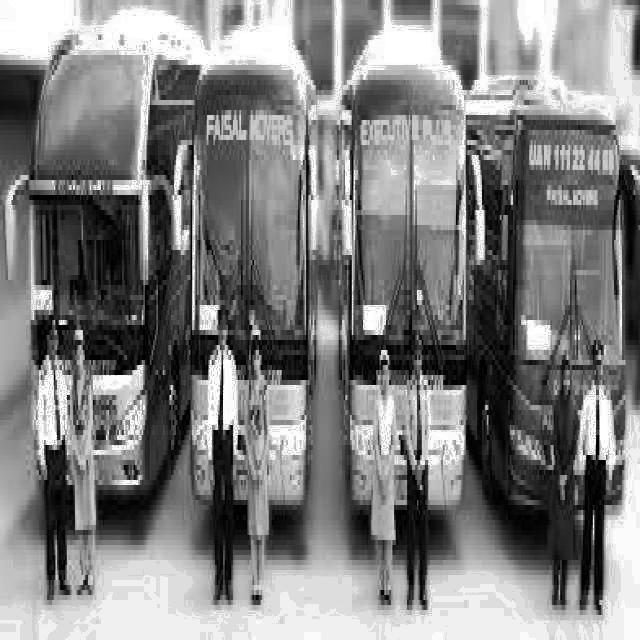Bus: (461, 0, 640, 580), (16, 11, 194, 506), (330, 26, 472, 544), (186, 21, 314, 550)
